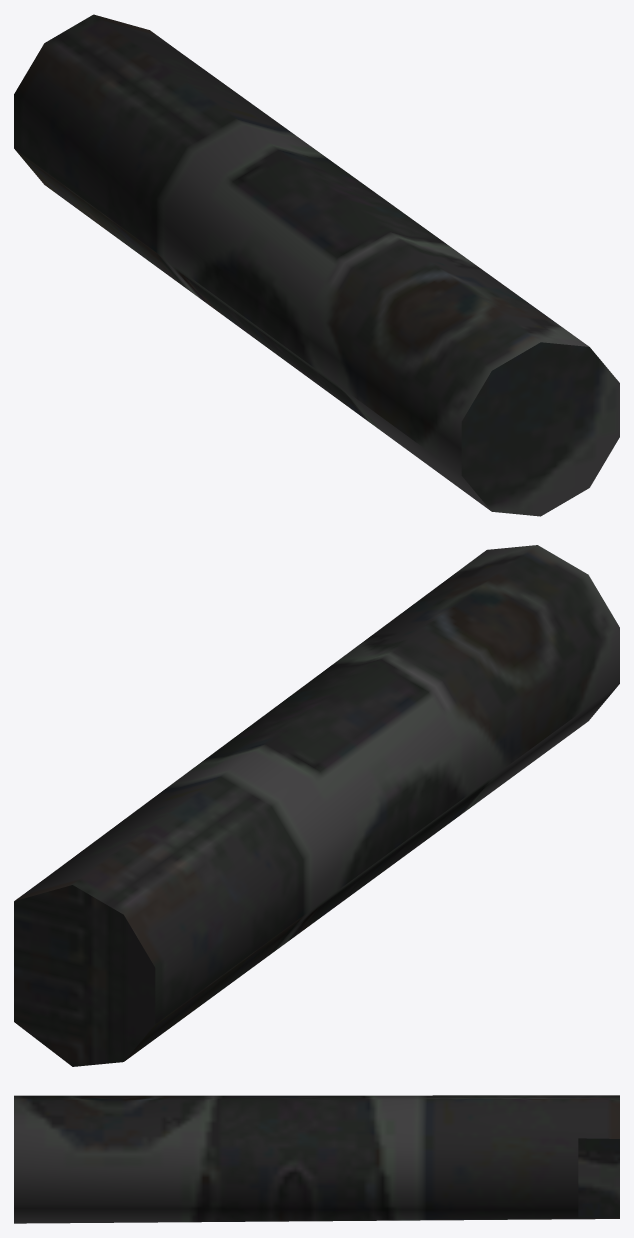
Rendered from SMG_cfq_xsq_01_lod2_Suppressor_LOD_(000479).glb.
The picture shows the model from 3 angles, top to bottom: view 1: azimuth 30°, elevation 25°; view 2: azimuth 150°, elevation 25°; view 3: azimuth 270°, elevation 25°; orthographic projection. The views are drawn at different scales.
Parts seen in each view (by area): view 1: cfq_xsq_01_lod2; view 2: cfq_xsq_01_lod2; view 3: cfq_xsq_01_lod2.
Part boxes in pixels (x1,y1,x2,y2): cfq_xsq_01_lod2: (14,14,619,516); cfq_xsq_01_lod2: (14,545,619,1066); cfq_xsq_01_lod2: (14,1095,619,1223).
Size of the model in its own units: 0.0547 by 0.0575 by 0.2661.
1 material, 1 textured.
